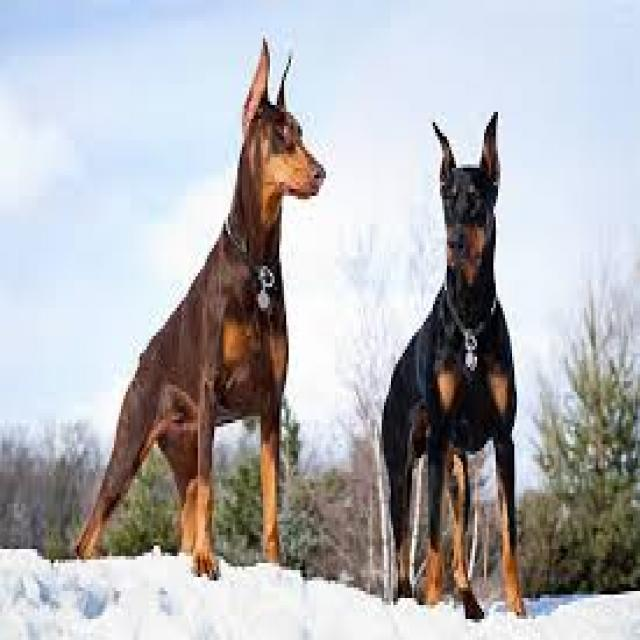Dog: (70, 34, 328, 581), (374, 105, 532, 626)
